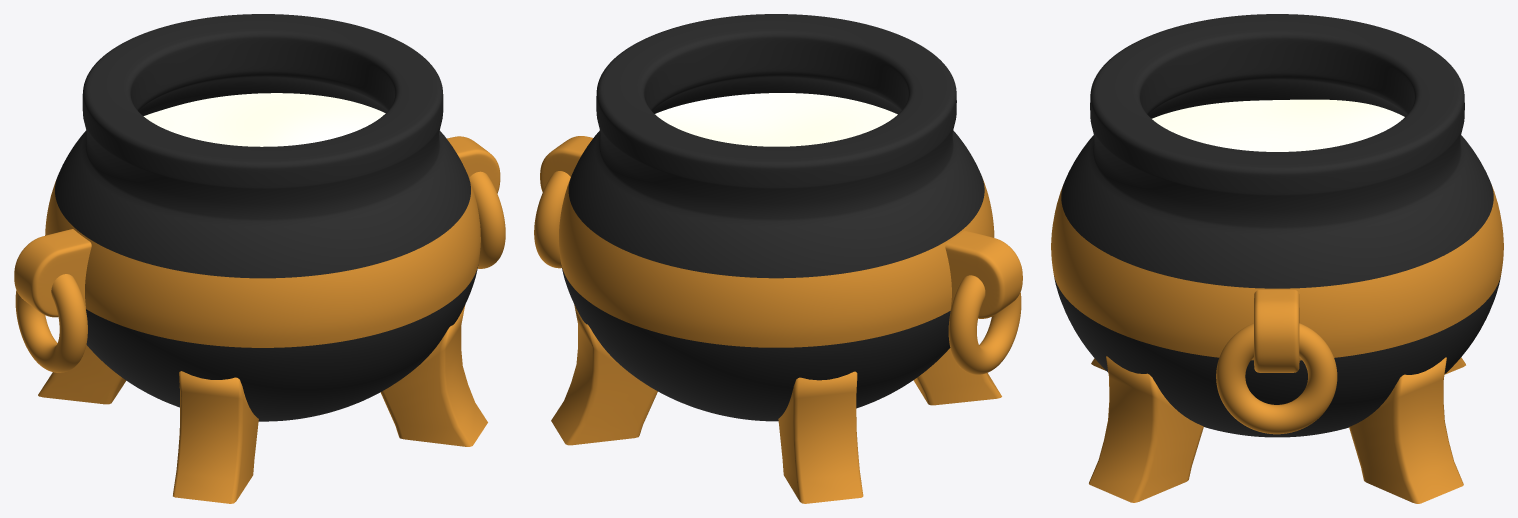
File: cauldron3.fbx
3 views of the same model, side by side, from view 1: azimuth 30°, elevation 25°; view 2: azimuth 150°, elevation 25°; view 3: azimuth 270°, elevation 25° (orthographic). The views are drawn at different scales.
Visible parts, largest first — view 1: couldron, feet, soup, rings, handle_base; view 2: couldron, feet, soup, rings, handle_base; view 3: couldron, feet, soup, rings, handle_base.
Boxes of the visible parts, <box> form: couldron: <box>45,14,480,421</box>; feet: <box>38,305,487,503</box>; soup: <box>143,93,385,146</box>; rings: <box>15,171,505,372</box>; handle_base: <box>14,136,500,317</box>; couldron: <box>559,14,994,421</box>; feet: <box>551,304,1001,503</box>; soup: <box>655,93,897,146</box>; rings: <box>534,171,1021,374</box>; handle_base: <box>540,136,1022,318</box>; couldron: <box>1051,14,1503,437</box>; feet: <box>1089,356,1465,503</box>; soup: <box>1152,99,1404,151</box>; rings: <box>1216,323,1337,434</box>; handle_base: <box>1254,290,1299,372</box>.
Bounding box in the file's own units: 245 × 161 × 198.
